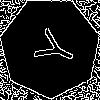Y: (25, 22, 79, 72)
